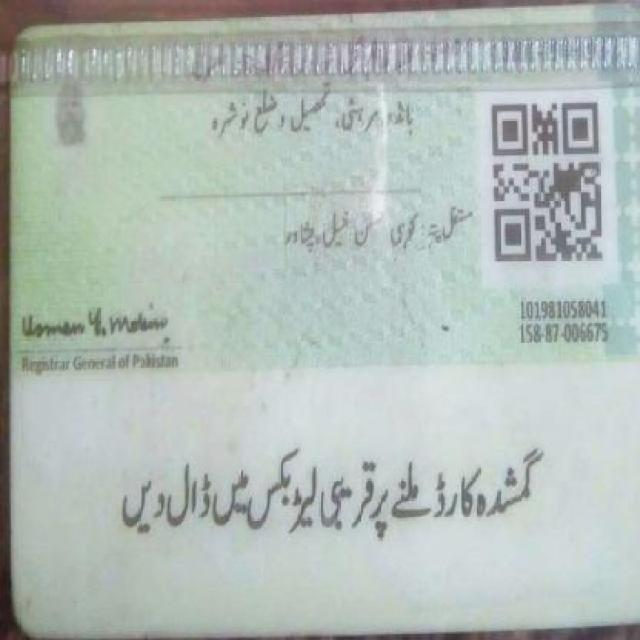Back: (8, 22, 632, 583)
